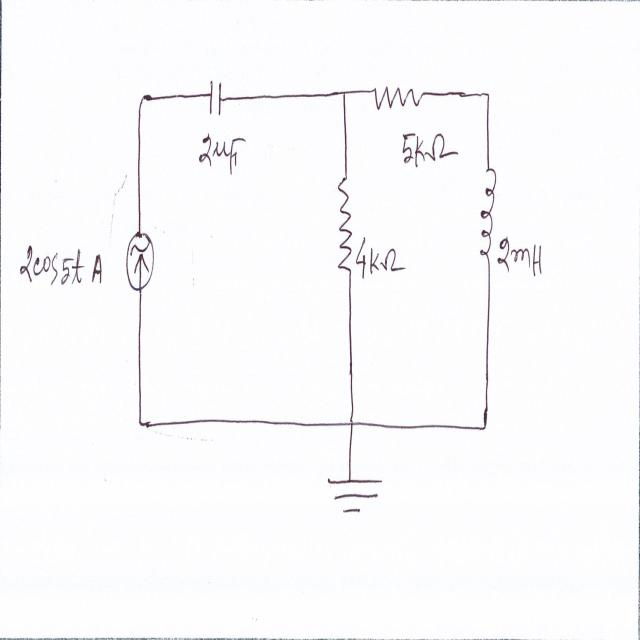capacitor: (207, 70, 224, 123)
current_source: (126, 227, 159, 294)
ground: (325, 470, 385, 517)
inductor: (477, 167, 497, 261)
resistor: (332, 170, 357, 277), (374, 79, 426, 127)
